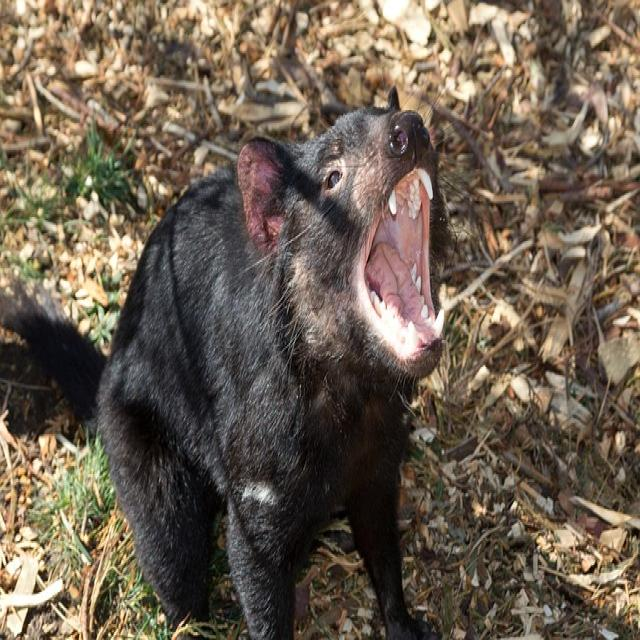Carnivorous: (0, 109, 447, 640)
